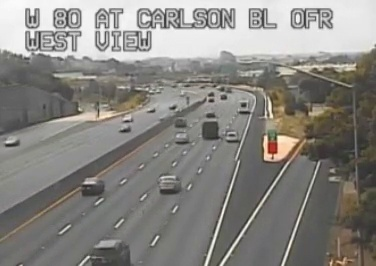car: (91, 241, 130, 266), (158, 176, 180, 192), (81, 178, 102, 194)
